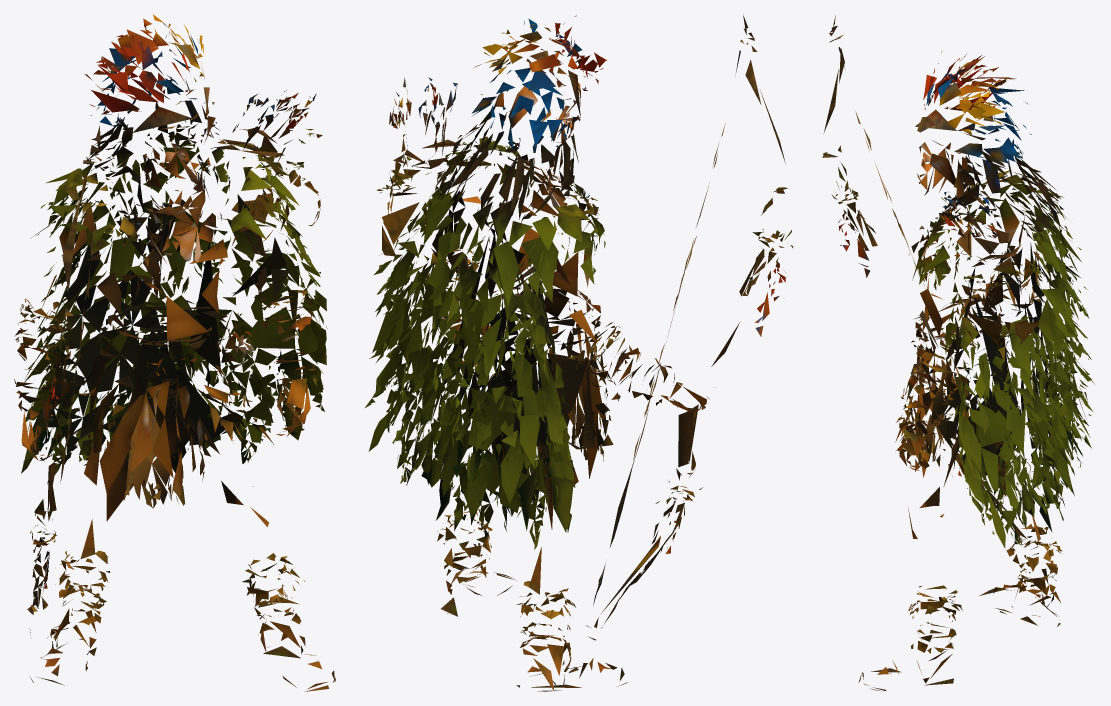
File: demo_enforcer_01.glb
The picture shows the model from 3 angles, left to right: view 1: azimuth 30°, elevation 25°; view 2: azimuth 150°, elevation 25°; view 3: azimuth 270°, elevation 25°; orthographic projection. The views are drawn at different scales.
Visible parts, largest first — view 1: node_0; view 2: node_0; view 3: node_0.
Part boxes in pixels (box(x1,y1,x2,y2)): node_0: box(14, 14, 335, 691); node_0: box(365, 14, 793, 691); node_0: box(822, 15, 1094, 691).
Size of the model in its own units: 0.6251 by 1.08 by 0.4605.
Materials: 1 (1 with a texture image).
